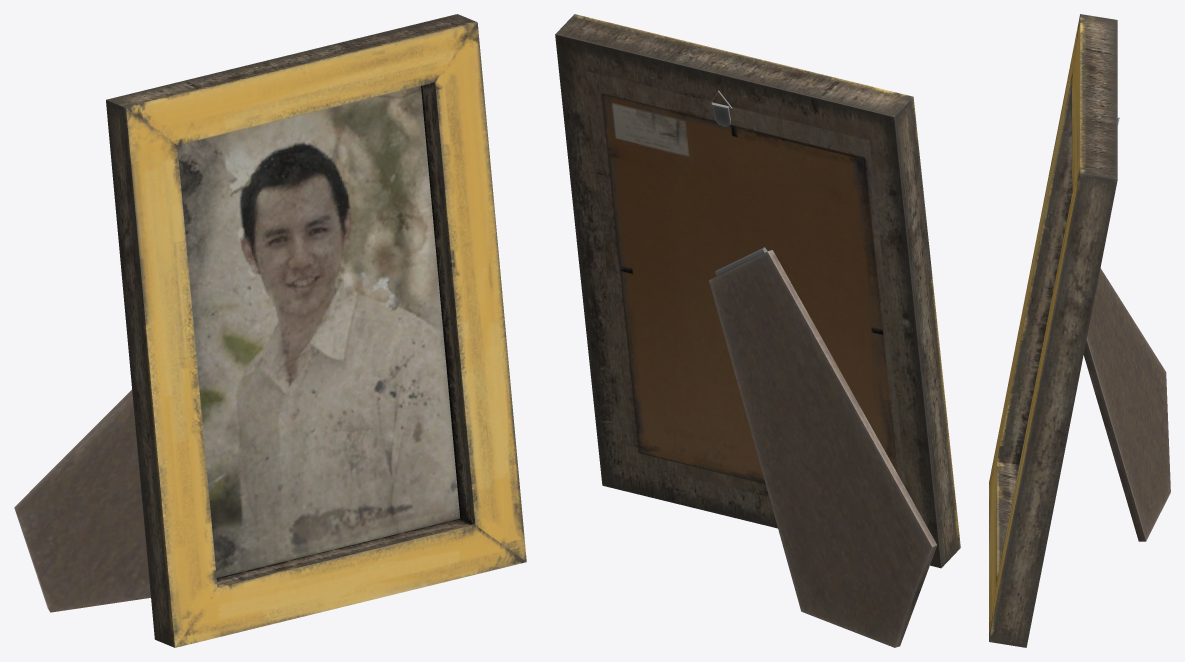
File: photoFrameTable03_b.FBX
The picture shows the model from 3 angles, left to right: view 1: azimuth 30°, elevation 25°; view 2: azimuth 150°, elevation 25°; view 3: azimuth 270°, elevation 25°; orthographic projection. The views are drawn at different scales.
Visible parts, largest first — view 1: SM_PhotoFrameTable03; view 2: SM_PhotoFrameTable03; view 3: SM_PhotoFrameTable03.
Part boxes in pixels (x1,y1,x2,y2): SM_PhotoFrameTable03: [14, 14, 526, 647]; SM_PhotoFrameTable03: [555, 14, 960, 647]; SM_PhotoFrameTable03: [989, 14, 1170, 647].
Bounding box in the file's own units: 22.63 × 27.36 × 9.16.
1 material, 1 textured.
